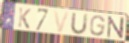7: (35, 8, 50, 32)
G: (89, 15, 107, 37)
K: (17, 7, 32, 31)
N: (107, 16, 124, 40)
U: (70, 13, 89, 36)
V: (53, 10, 71, 34)
